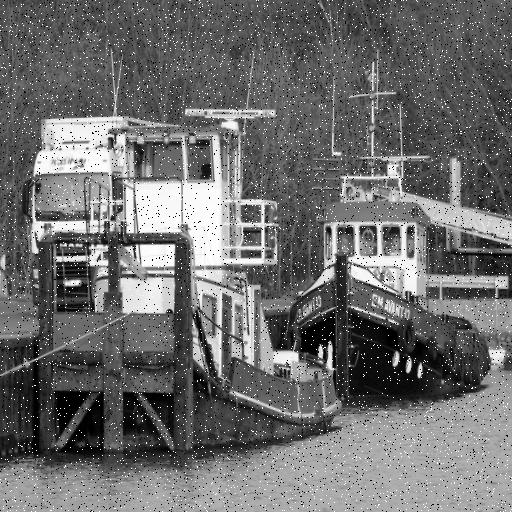tugboat: (35, 106, 345, 471), (288, 151, 499, 414)
